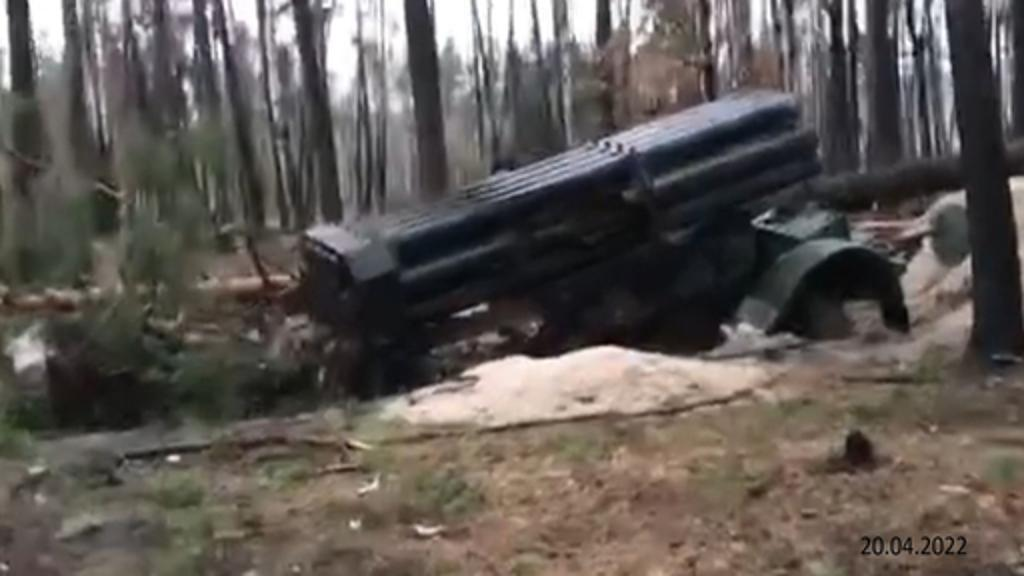MLRS: (268, 86, 914, 436)
